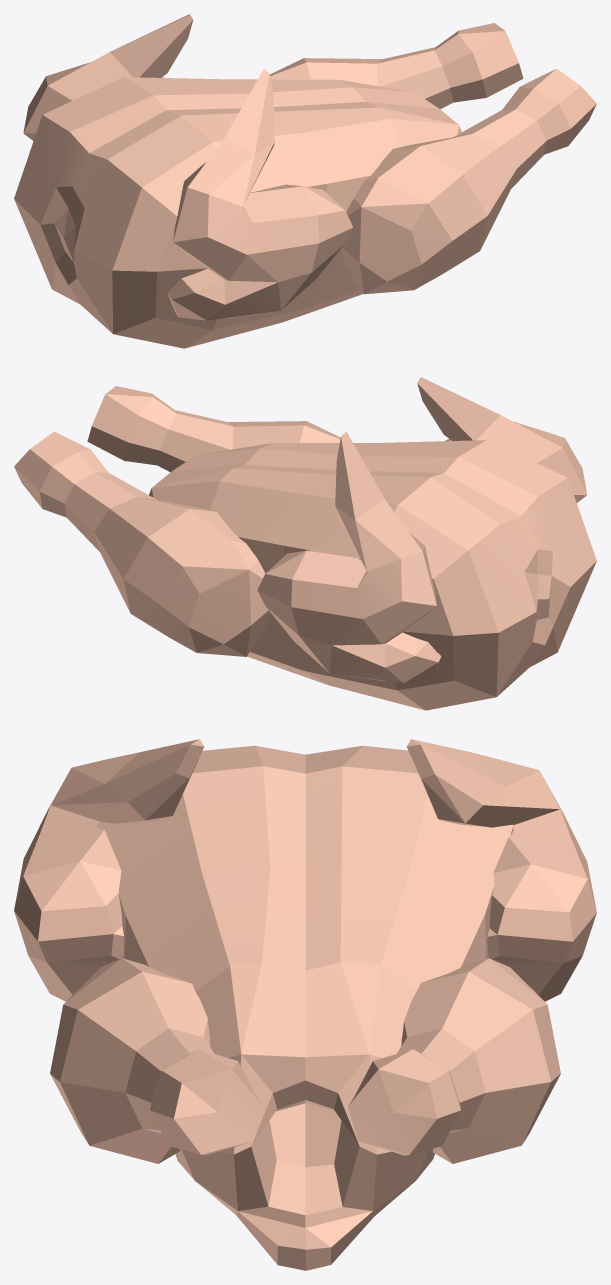
File: SM_Prop_Food_Chicken_Whole_Raw_01.obj
3 views of the same model, one above another, from view 1: azimuth 30°, elevation 25°; view 2: azimuth 150°, elevation 25°; view 3: azimuth 270°, elevation 25° (orthographic). The views are drawn at different scales.
Parts seen in each view (by area): view 1: SM_Prop_Food_Chicken_Whole_Raw_01_0; view 2: SM_Prop_Food_Chicken_Whole_Raw_01_0; view 3: SM_Prop_Food_Chicken_Whole_Raw_01_0.
Boxes of the visible parts, x1,y1,x2,y2 form: SM_Prop_Food_Chicken_Whole_Raw_01_0: [14, 14, 596, 348]; SM_Prop_Food_Chicken_Whole_Raw_01_0: [14, 377, 596, 710]; SM_Prop_Food_Chicken_Whole_Raw_01_0: [14, 739, 596, 1270].
Bounding box in the file's own units: 0.4195 × 0.2169 × 0.2985.
Materials: 1 (1 with a texture image).
